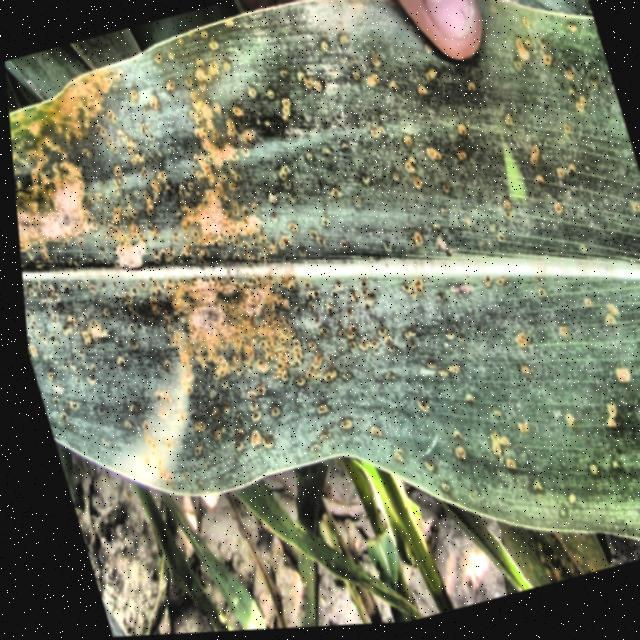common_rust: (9, 3, 640, 538)
